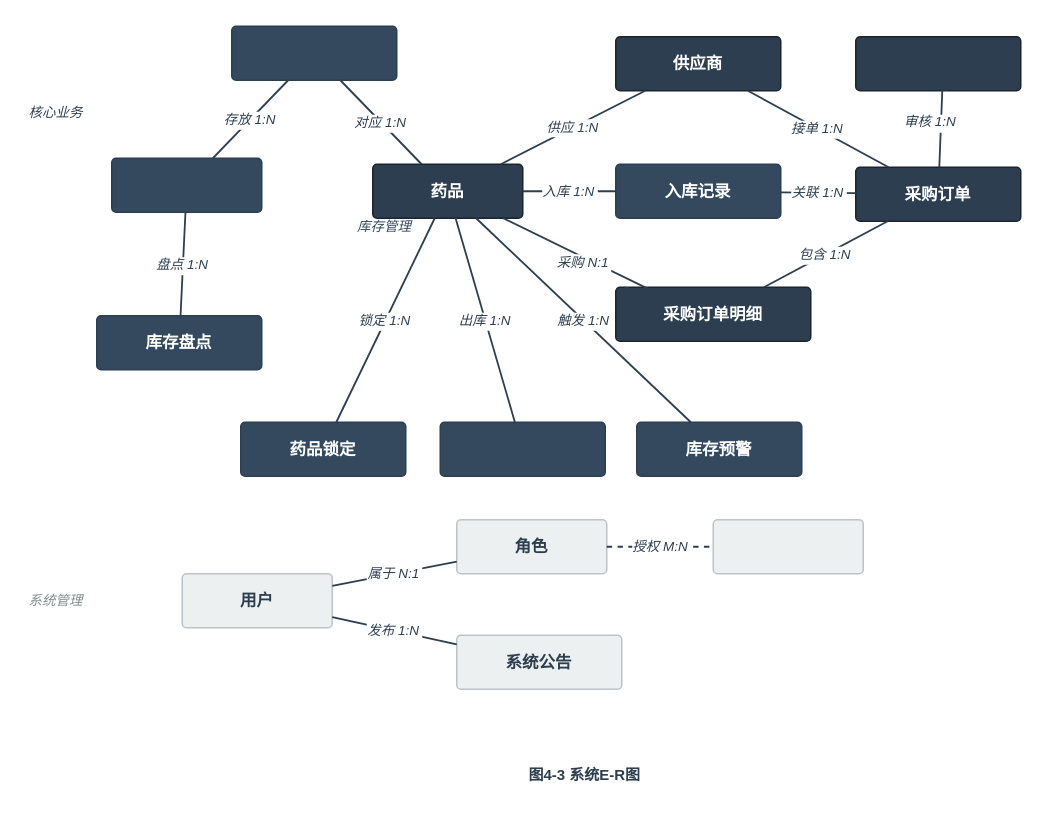
Some shapes in this 1047 by 813 pixel diagram are drawn without their labels. The shapes that lost their labels are listed below. From the top down, each one's box as (x1, y1, x2, y2) in pixels, then its label:
(230, 25, 397, 80): 药品库存
(854, 35, 1021, 91): 审核记录
(110, 157, 262, 212): 仓库
(439, 421, 605, 476): 出库记录
(712, 518, 863, 574): 菜单
